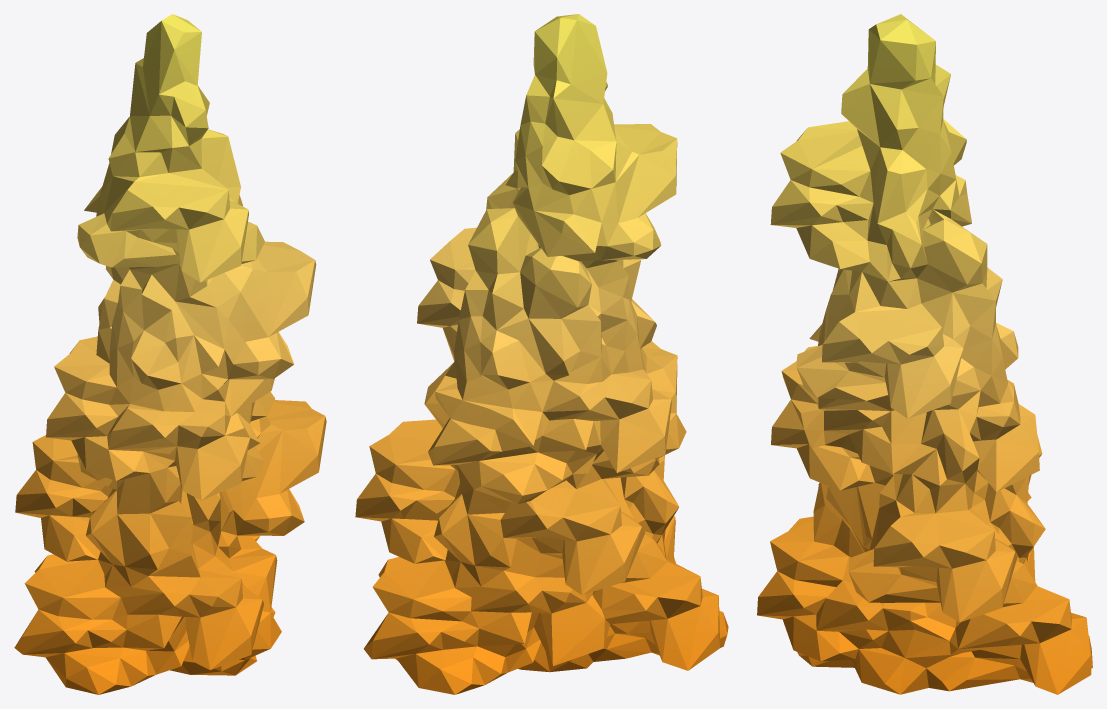
File: SM_Rock_10.fbx
3 views of the same model, side by side, from view 1: azimuth 30°, elevation 25°; view 2: azimuth 150°, elevation 25°; view 3: azimuth 270°, elevation 25° (orthographic).
Visible parts, largest first — view 1: Rock_10; view 2: Rock_10; view 3: Rock_10.
Part boxes in pixels (x1,y1,x2,y2): Rock_10: (14,14,326,694); Rock_10: (355,14,728,694); Rock_10: (757,14,1092,694).
Size of the model in its own units: 1581 by 2895 by 1397.
